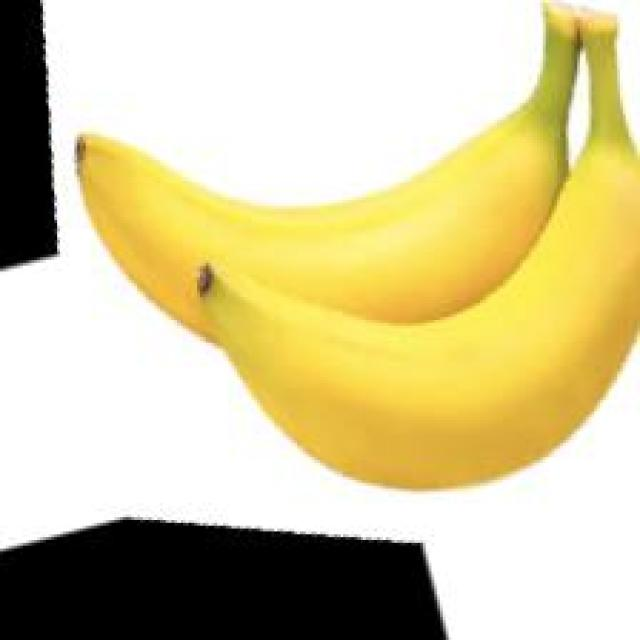banana: (54, 14, 640, 534)
